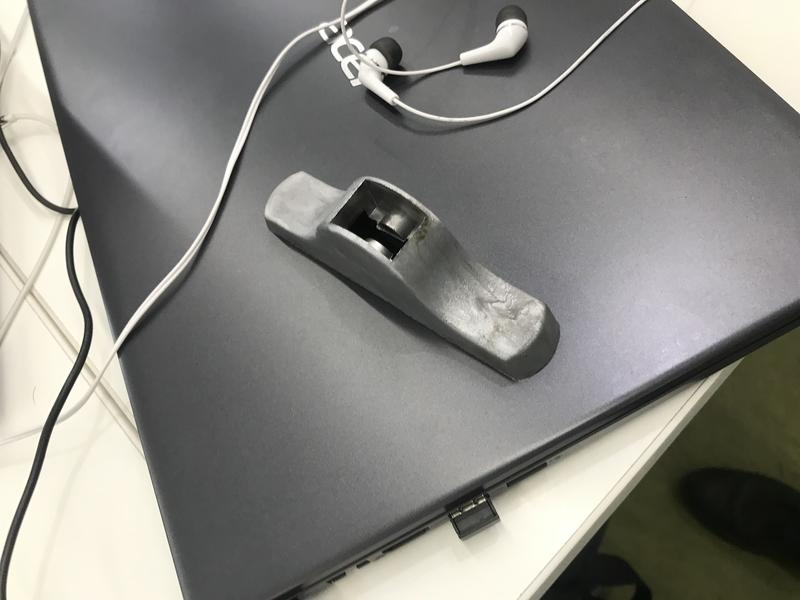zapchast: (246, 157, 576, 397)
